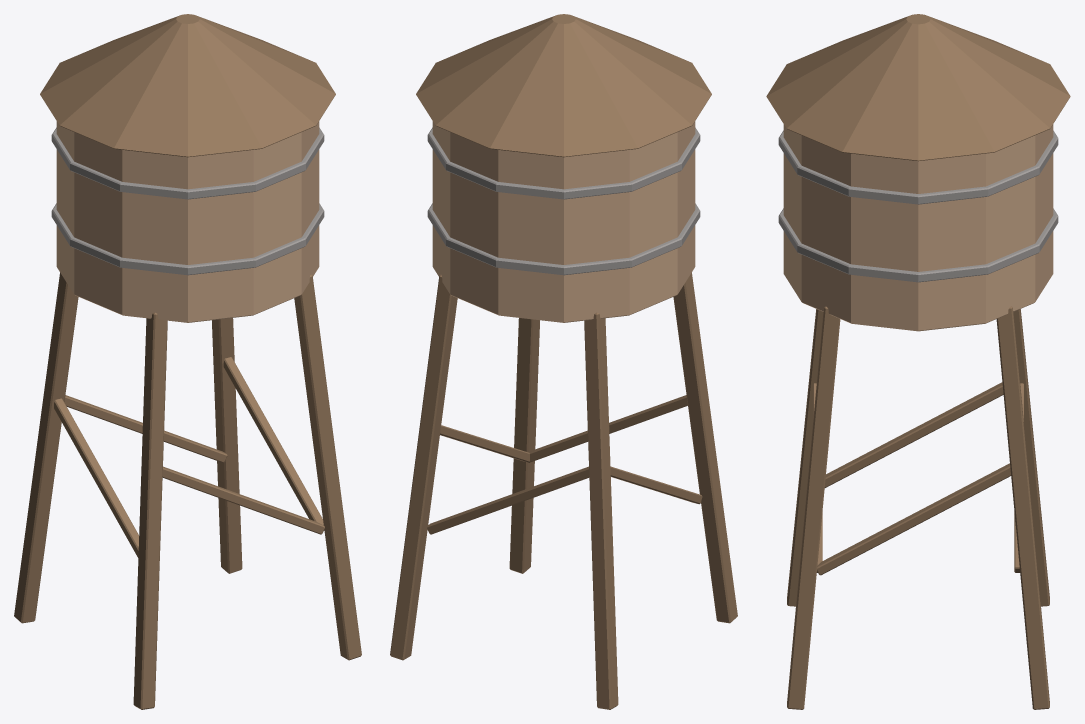
3 renders of one model, left to right at view 1: azimuth 30°, elevation 25°; view 2: azimuth 150°, elevation 25°; view 3: azimuth 270°, elevation 25°, orthographic. The views are drawn at different scales.
Parts seen in each view (by area): view 1: WaterTower; view 2: WaterTower; view 3: WaterTower.
Boxes of the visible parts, x1,y1,x2,y2 form: WaterTower: (14,14,361,709); WaterTower: (390,14,737,709); WaterTower: (766,14,1070,709).
Bounding box in the file's own units: 2.48 × 5.73 × 2.48.
